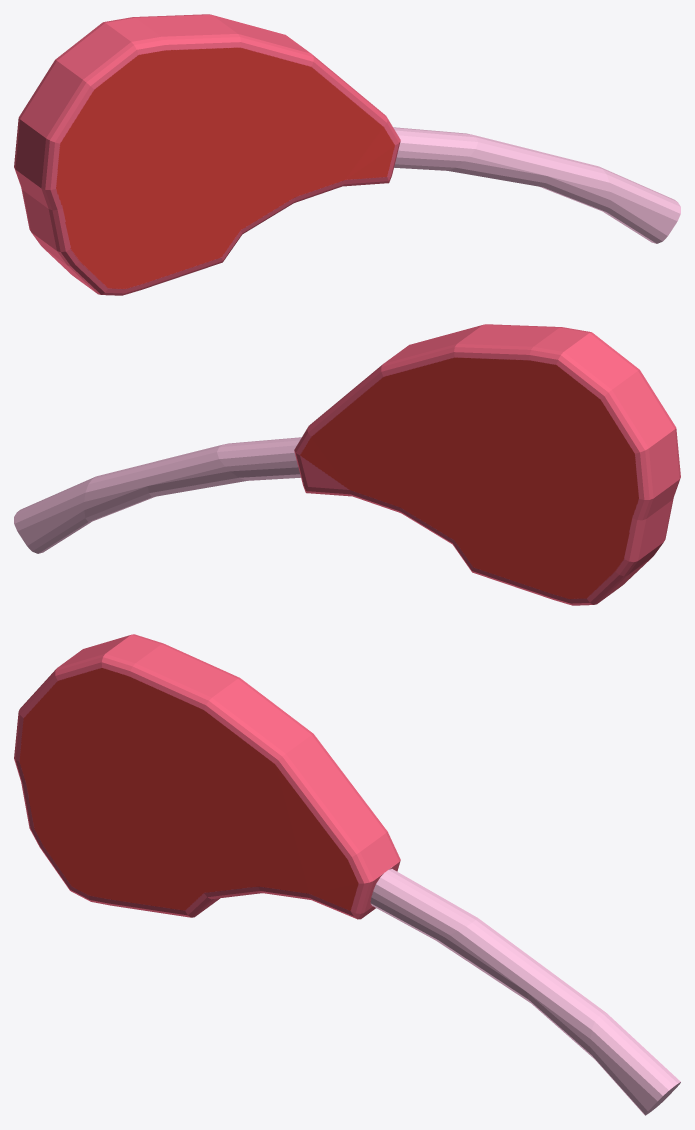
The model's file is BeefBone.fbx.
3 renders of one model, top to bottom at view 1: azimuth 30°, elevation 25°; view 2: azimuth 150°, elevation 25°; view 3: azimuth 330°, elevation 25°, orthographic.
Visible parts, largest first — view 1: Cube; view 2: Cube; view 3: Cube.
Part boxes in pixels (x1,y1,x2,y2): Cube: [14, 14, 680, 295]; Cube: [14, 324, 680, 605]; Cube: [14, 634, 680, 1115].
Size of the model in its own units: 394 by 197 by 38.49.
